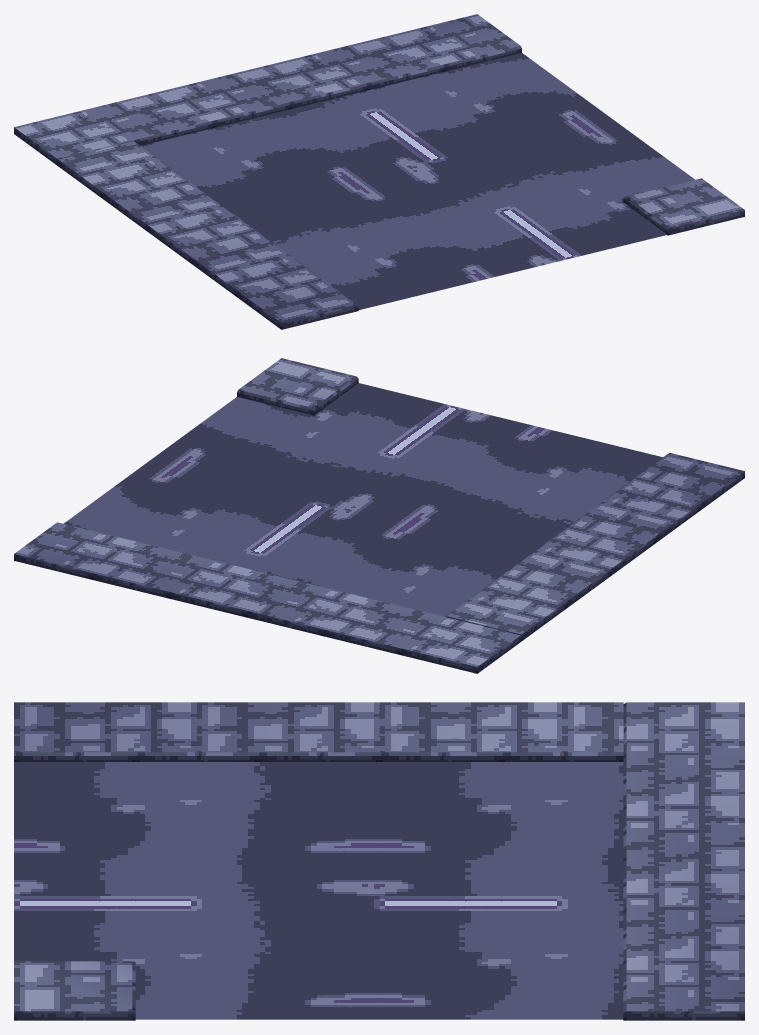
The model's file is cystreet.corner.glb.
The picture shows the model from 3 angles, top to bottom: view 1: azimuth 30°, elevation 25°; view 2: azimuth 150°, elevation 25°; view 3: azimuth 270°, elevation 25°; orthographic projection. The views are drawn at different scales.
Parts seen in each view (by area): view 1: kit_shell_road, kit_walks; view 2: kit_shell_road, kit_walks; view 3: kit_shell_road, kit_walks.
Part boxes in pixels (left/top/right/bottom): kit_shell_road: left=141, top=53, right=694, bottom=309; kit_walks: left=14, top=14, right=744, bottom=329; kit_shell_road: left=64, top=383, right=662, bottom=616; kit_walks: left=14, top=358, right=744, bottom=673; kit_shell_road: left=14, top=762, right=623, bottom=1019; kit_walks: left=14, top=702, right=744, bottom=1020.
Bounding box in the file's own units: 12 × 0.17 × 12.
3 materials, 3 textured.
